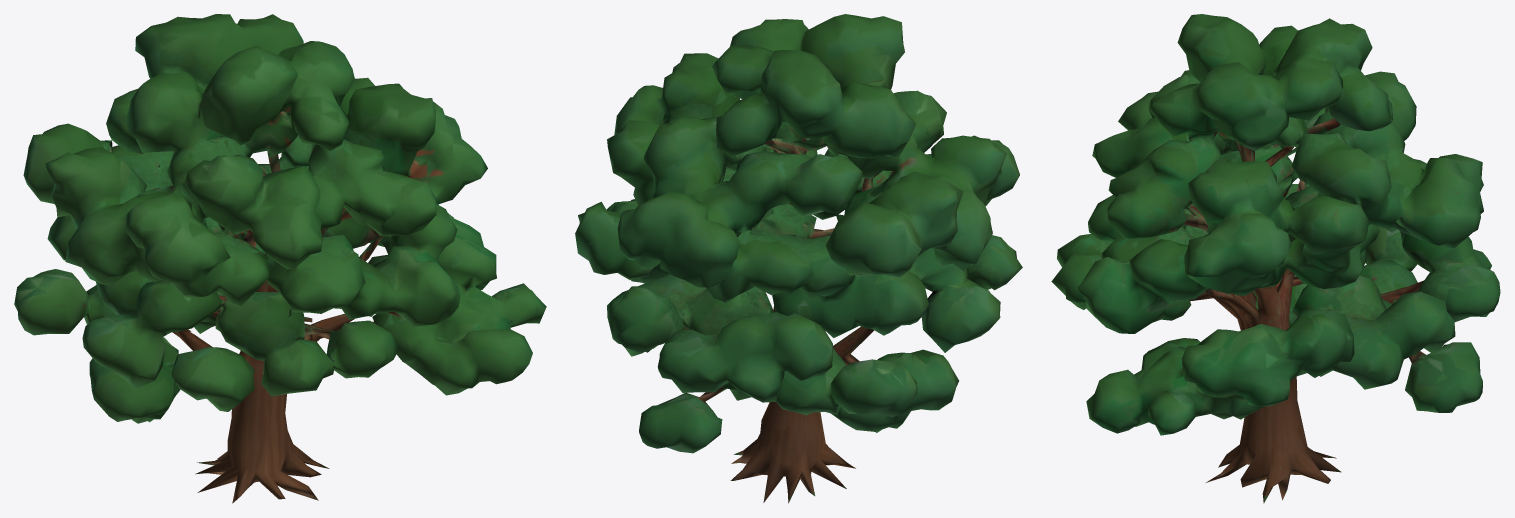
Rendered from agac2.fbx.
3 renders of one model, left to right at view 1: azimuth 30°, elevation 25°; view 2: azimuth 150°, elevation 25°; view 3: azimuth 270°, elevation 25°, orthographic. The views are drawn at different scales.
Visible parts, largest first — view 1: Mesh_0; view 2: Mesh_0; view 3: Mesh_0.
Boxes of the visible parts, <box> form: Mesh_0: <box>14,14,546,503</box>; Mesh_0: <box>575,14,1022,503</box>; Mesh_0: <box>1051,14,1500,503</box>.
Size of the model in its own units: 182 by 190 by 176.
1 material, 1 textured.
